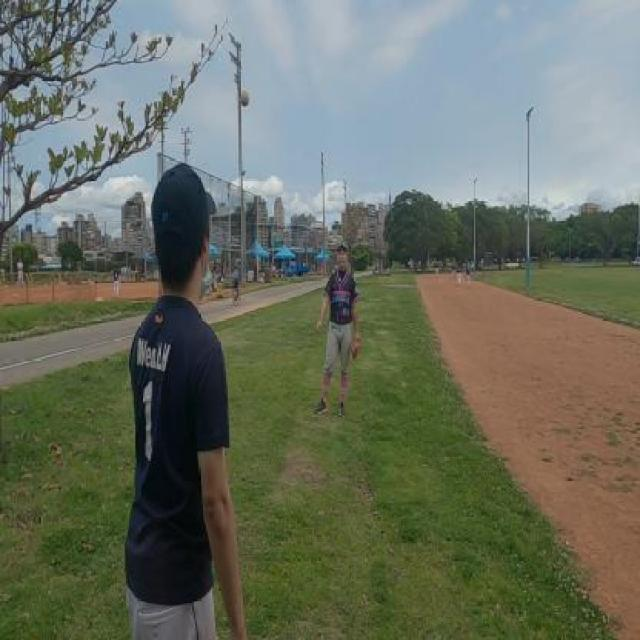baseball: (239, 89, 250, 108)
